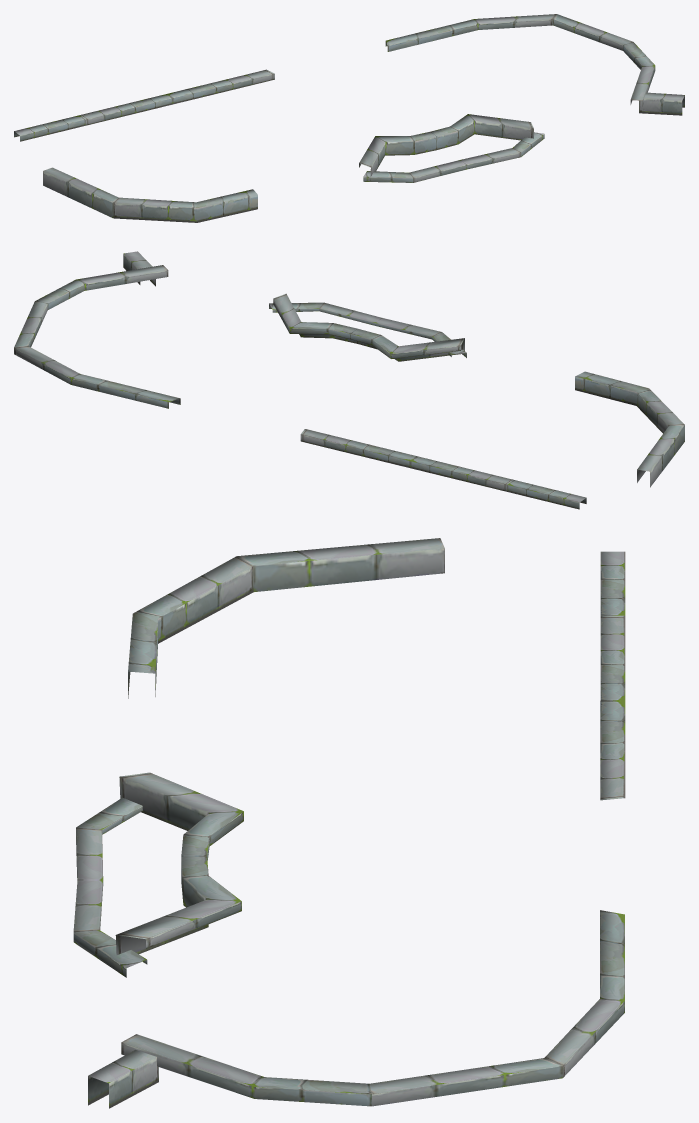
The model's file is Map_06_brick02.FBX.
3 renders of one model, top to bottom at view 1: azimuth 30°, elevation 25°; view 2: azimuth 150°, elevation 25°; view 3: azimuth 270°, elevation 25°, orthographic. The views are drawn at different scales.
Parts seen in each view (by area): view 1: Map_06_brick02; view 2: Map_06_brick02; view 3: Map_06_brick02.
Boxes of the visible parts, left/top/right/bottom form: Map_06_brick02: left=14, top=14, right=684, bottom=222; Map_06_brick02: left=14, top=251, right=684, bottom=509; Map_06_brick02: left=73, top=538, right=625, bottom=1108.
Size of the model in its own units: 4584 by 1910 by 127.
